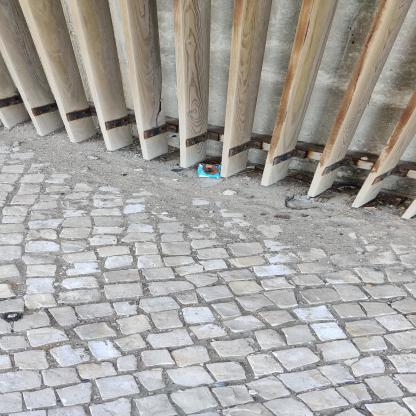karton: (198, 164, 224, 180)
